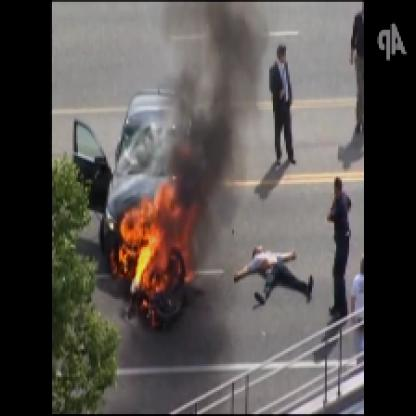Fire: (108, 175, 210, 310)
Smoke: (158, 4, 269, 230)
